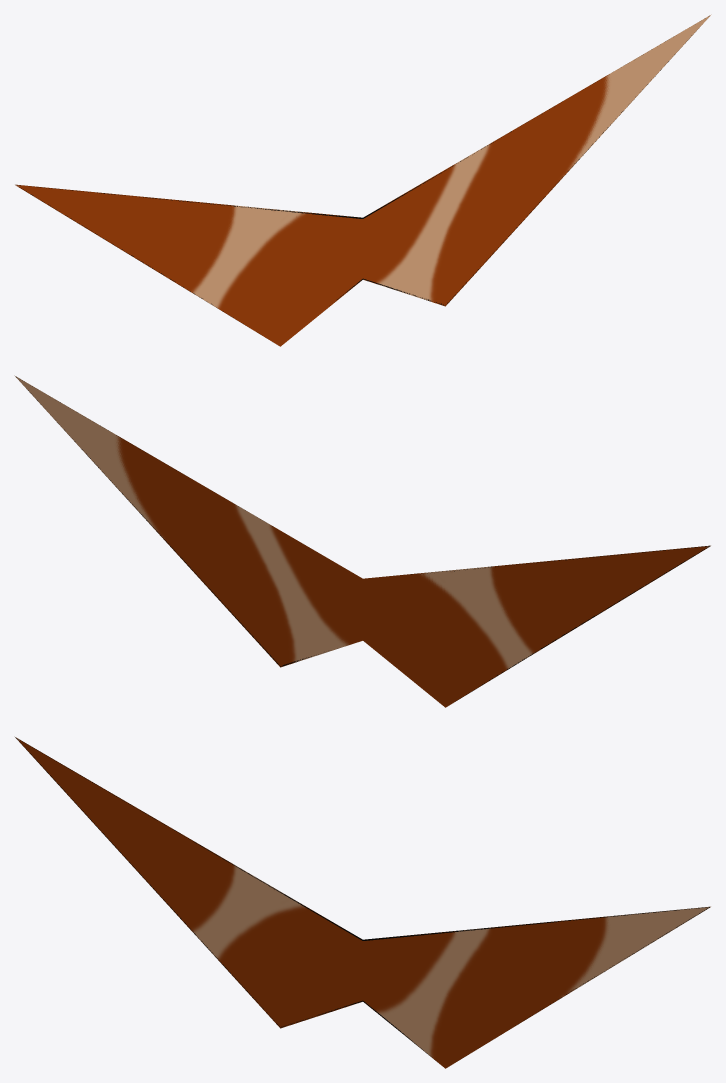
Rendered from glasses.glb.
3 renders of one model, top to bottom at view 1: azimuth 30°, elevation 25°; view 2: azimuth 150°, elevation 25°; view 3: azimuth 330°, elevation 25°, orthographic.
Parts seen in each view (by area): view 1: glasses; view 2: glasses; view 3: glasses.
Boxes of the visible parts, x1=… form: glasses: x1=15, y1=14, x2=711, y2=346; glasses: x1=14, y1=375, x2=710, y2=707; glasses: x1=14, y1=736, x2=710, y2=1068.
Bounding box in the file's own units: 0.2004 × 0.0624 × 4.02e-09.
Materials: 1 (1 with a texture image).
